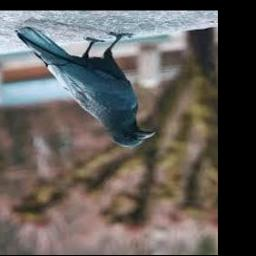Crow: (13, 27, 155, 148)
